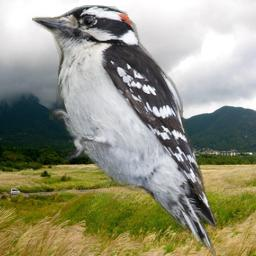Woodpecker: (32, 5, 216, 256)
